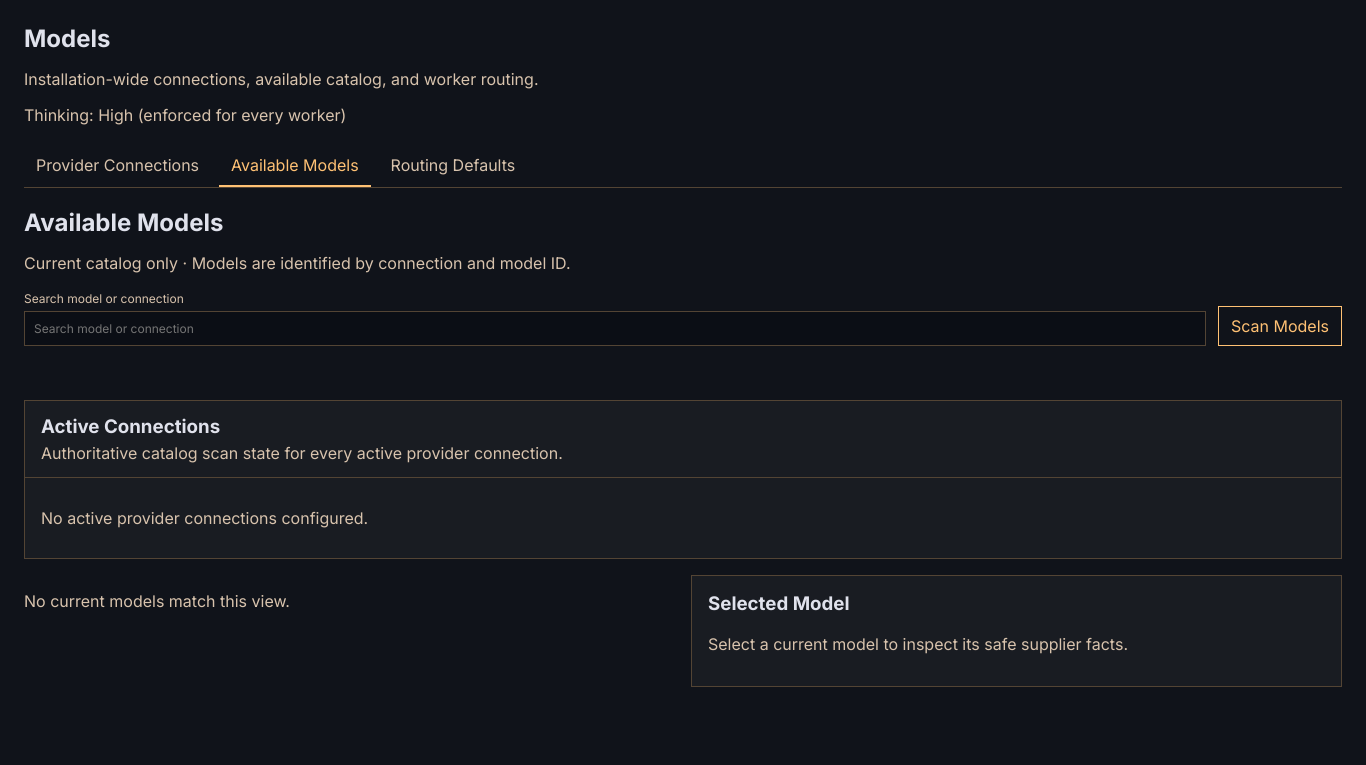
Scenario: ModelsDestination › keeps an all-active mixed scanning and failed response in progress while unrelated rows remain usable
Click the button "Scan Models" at (1280, 326), box x1=1218 y1=306 x2=1342 y2=346
(page scrolled)
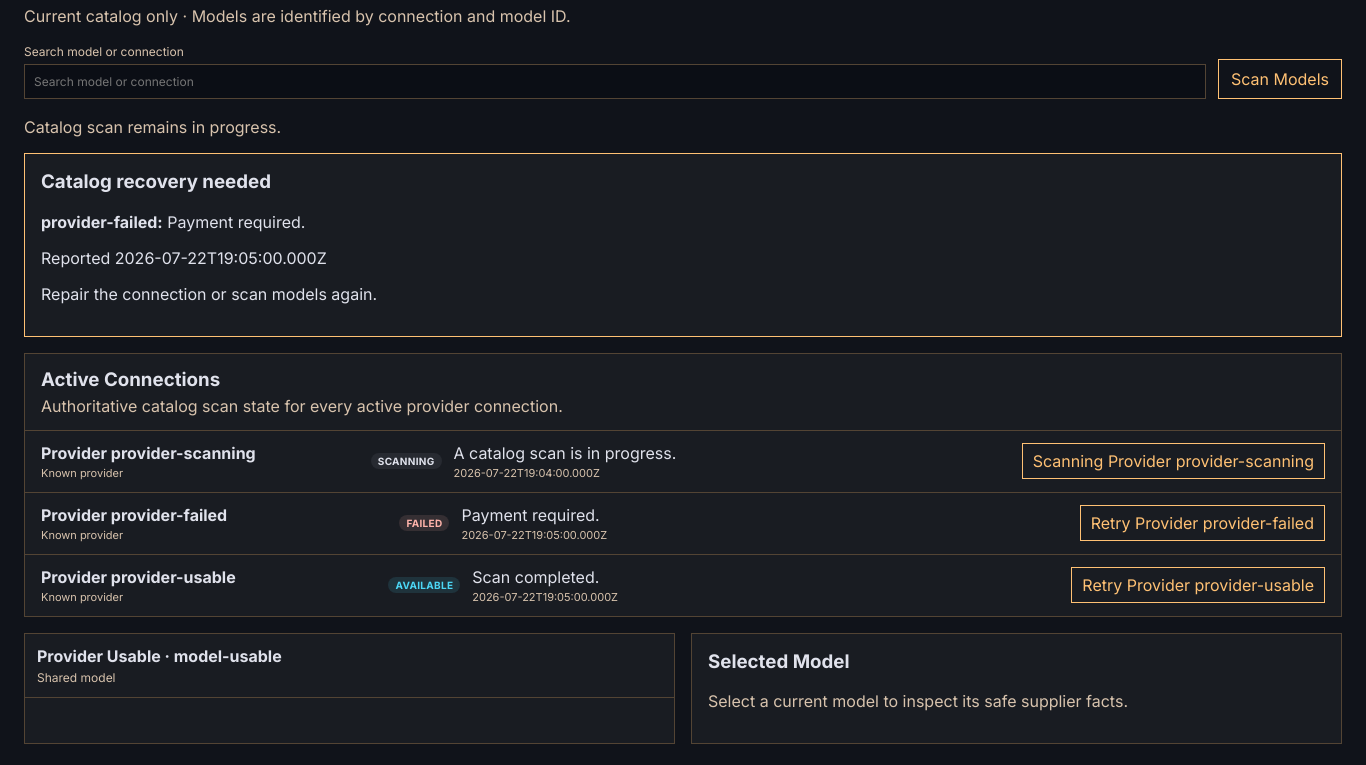
Now the text "Catalog scan remains in progress." is shown, box x1=24 y1=117 x2=281 y2=137
Now the button "Scanning Provider provider-scanning" is disabled, box x1=1022 y1=443 x2=1325 y2=479
Now the text "Payment required." is shown 2 times, box x1=41 y1=212 x2=305 y2=232; x1=461 y1=505 x2=600 y2=525
Click the option "Provider Usable · model-usable Shared model" at (99, 656), box x1=25 y1=634 x2=674 y2=698
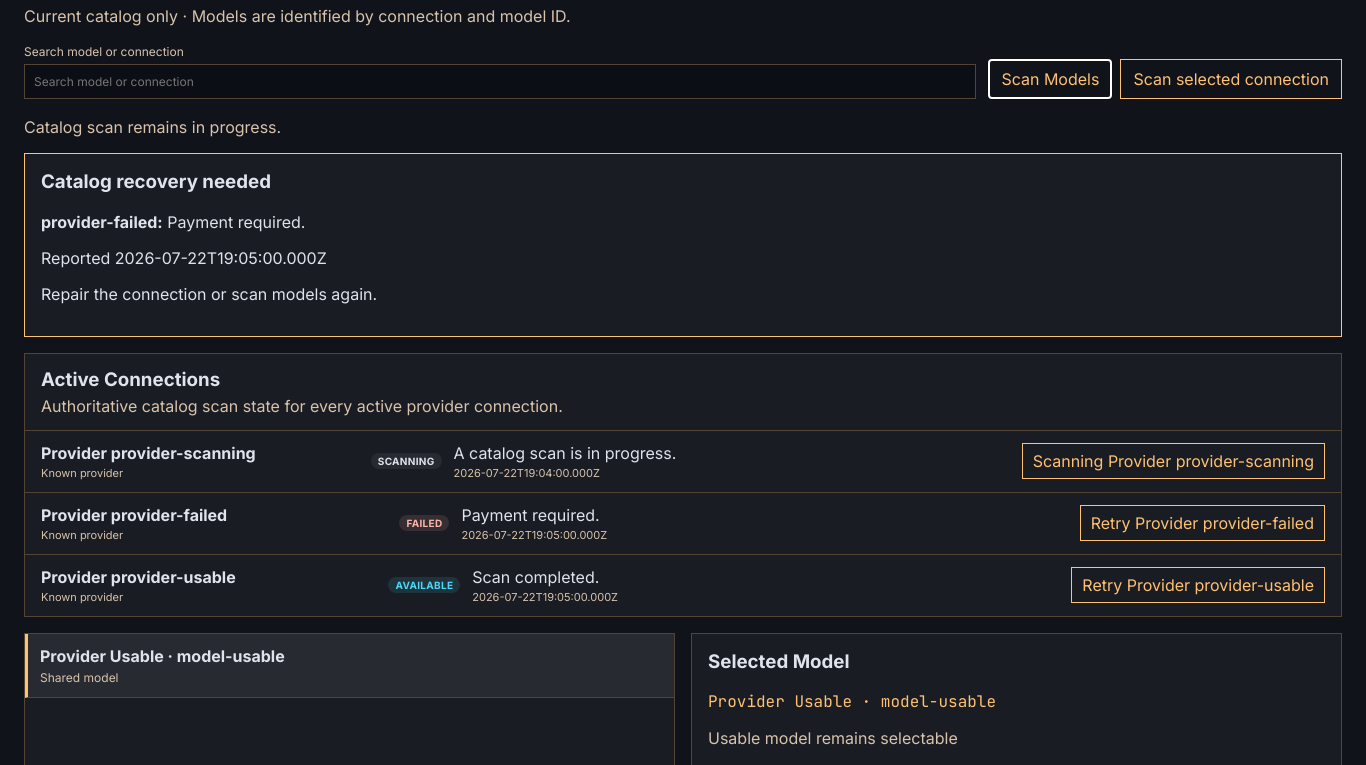
Now the text "Usable model remains selectable" is shown, box x1=708 y1=728 x2=958 y2=748
